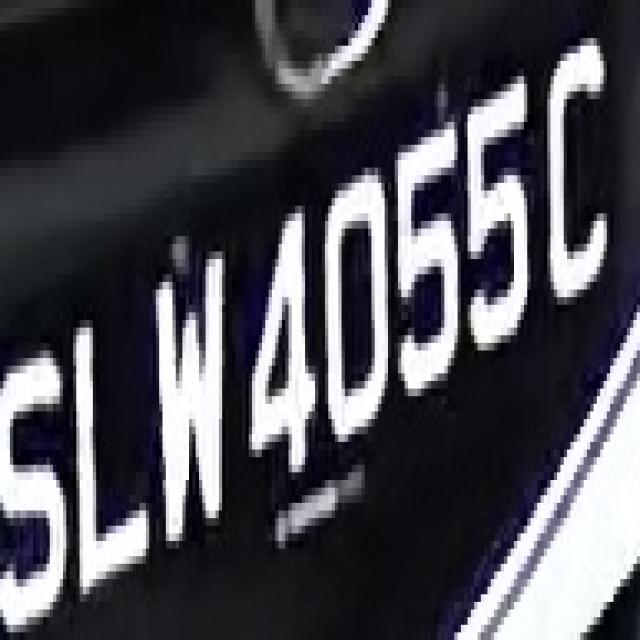0: (322, 160, 391, 457)
4: (236, 183, 322, 495)
5: (458, 54, 537, 374), (388, 122, 464, 396)
C: (540, 23, 617, 335)
L: (70, 297, 152, 610)
S: (3, 312, 70, 640)
W: (146, 252, 242, 556)
